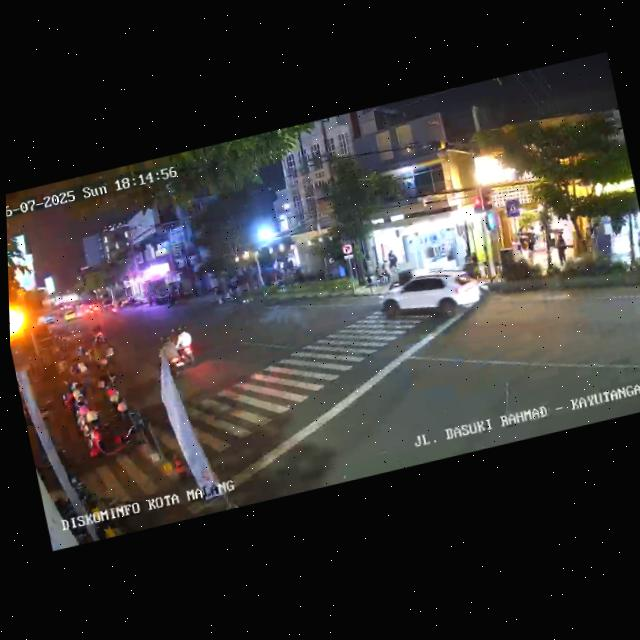car: (378, 257, 490, 333)
motorcycle: (152, 331, 187, 384), (168, 323, 200, 373), (90, 322, 108, 347)
person: (551, 227, 571, 269), (522, 234, 540, 270), (511, 238, 527, 270), (385, 249, 398, 276), (634, 222, 640, 261)
